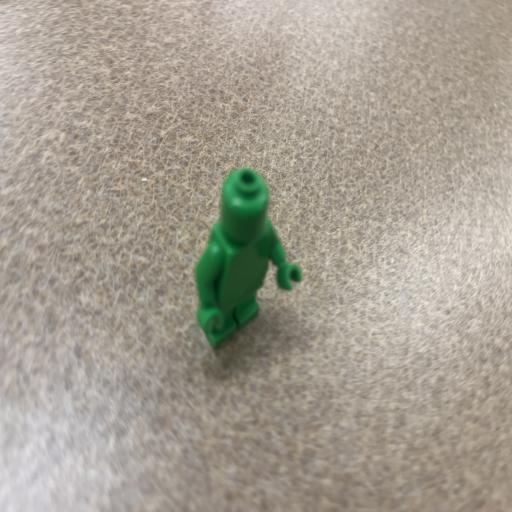Lego-Minifig: (196, 168, 302, 348)
